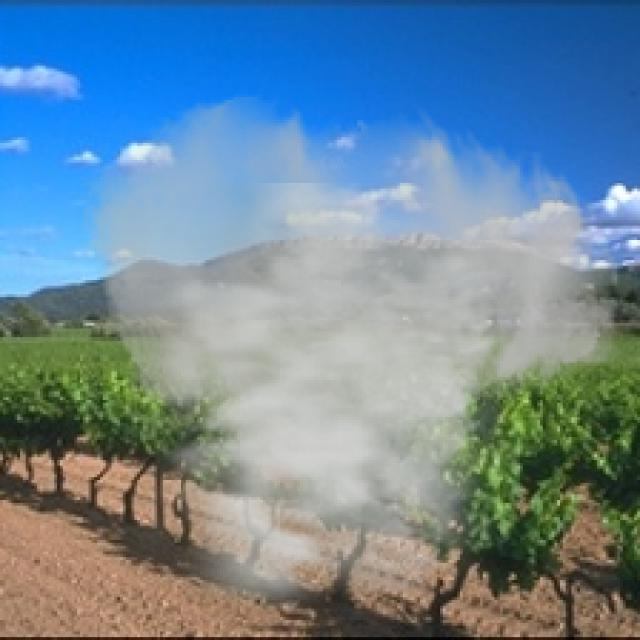smoke: (77, 92, 626, 637)
